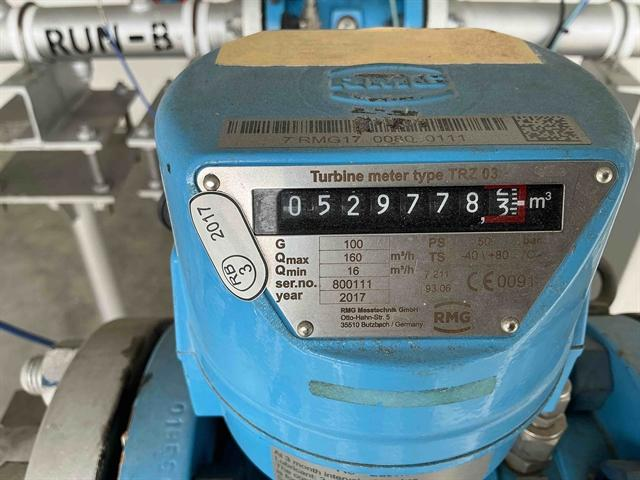analog_dial: (275, 184, 531, 231)
